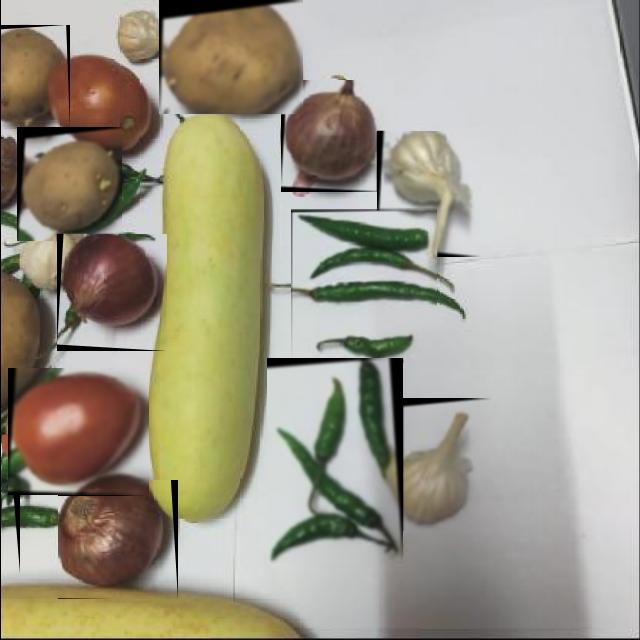Pepper: (266, 358, 402, 564), (290, 208, 436, 362), (1, 434, 19, 574)
garlic: (390, 398, 490, 531), (376, 131, 481, 257)
onion: (57, 478, 177, 598), (56, 234, 166, 351), (280, 80, 386, 192)
potato: (158, 0, 302, 114), (16, 127, 121, 241), (0, 25, 69, 129)
tomato: (7, 368, 148, 495)
